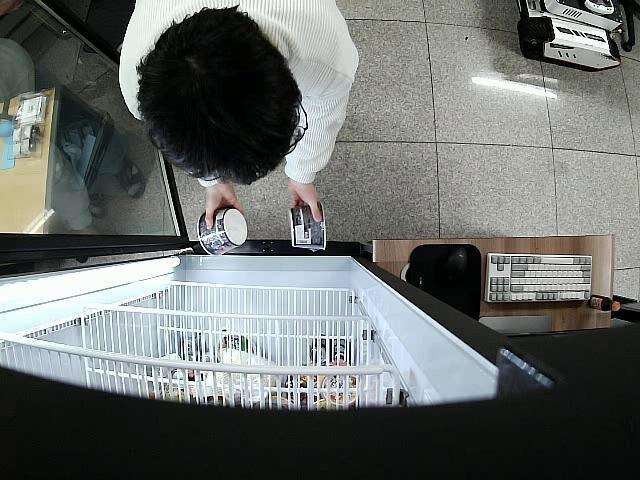07_buldak_L: (197, 206, 248, 261), (288, 204, 327, 251)
